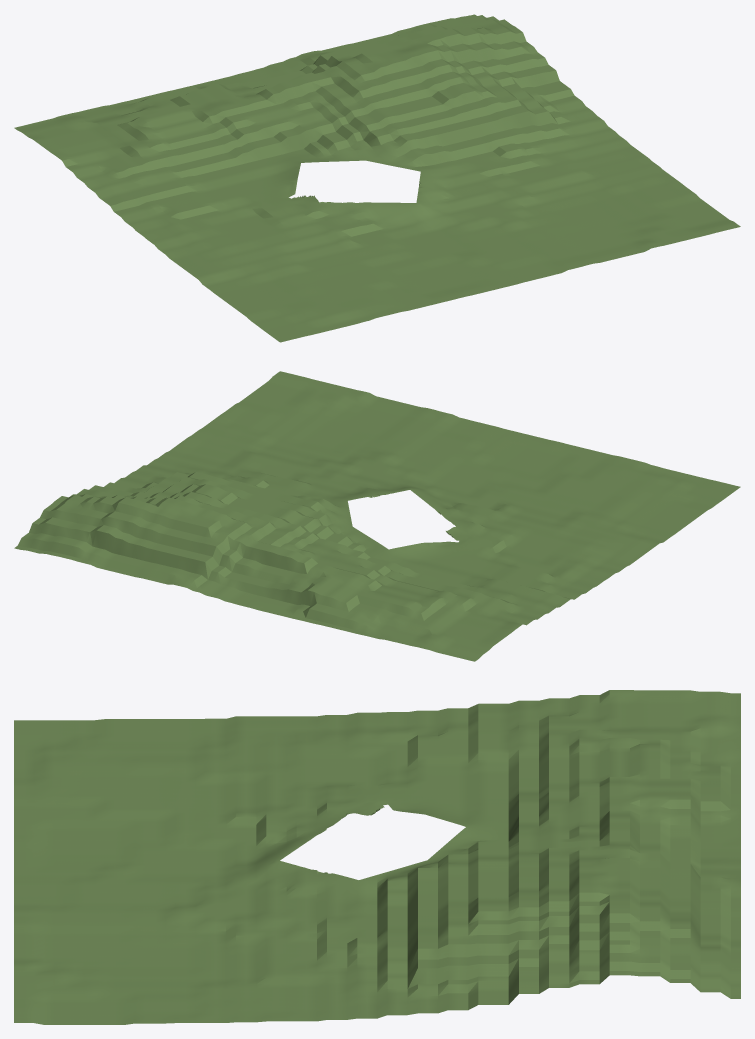
The picture shows the model from 3 angles, top to bottom: view 1: azimuth 30°, elevation 25°; view 2: azimuth 150°, elevation 25°; view 3: azimuth 270°, elevation 25°; orthographic projection. The views are drawn at different scales.
Visible parts, largest first — view 1: surface_context-terrain; view 2: surface_context-terrain; view 3: surface_context-terrain.
Boxes of the visible parts, x1,y1,x2,y2 form: surface_context-terrain: (14, 14, 740, 342); surface_context-terrain: (14, 371, 740, 661); surface_context-terrain: (14, 690, 740, 1024).
Size of the model in its own units: 720 by 78.61 by 720.
1 material, 1 textured.
